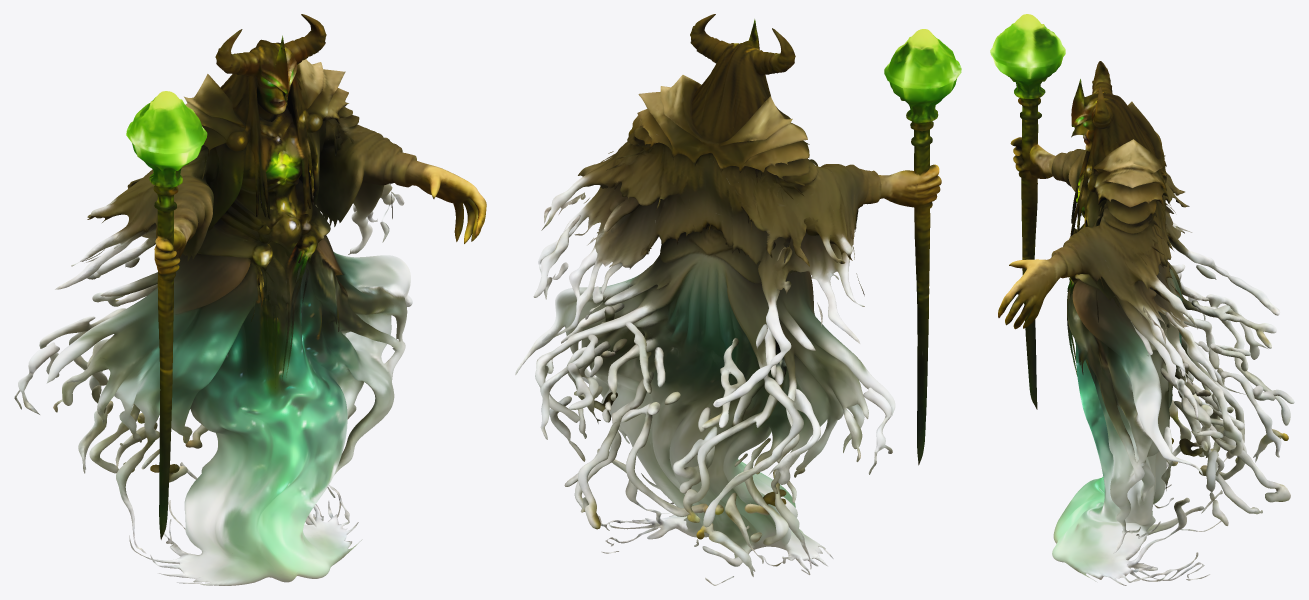
File: base_basic_shaded.fbx
The picture shows the model from 3 angles, left to right: view 1: azimuth 30°, elevation 25°; view 2: azimuth 150°, elevation 25°; view 3: azimuth 270°, elevation 25°; orthographic projection. The views are drawn at different scales.
Visible parts, largest first — view 1: model; view 2: model; view 3: model.
Part boxes in pixels (box(x1,y1,x2,y2)): model: box(14, 14, 486, 585); model: box(515, 14, 961, 585); model: box(990, 14, 1294, 585).
Bounding box in the file's own units: 129 × 176 × 102.
